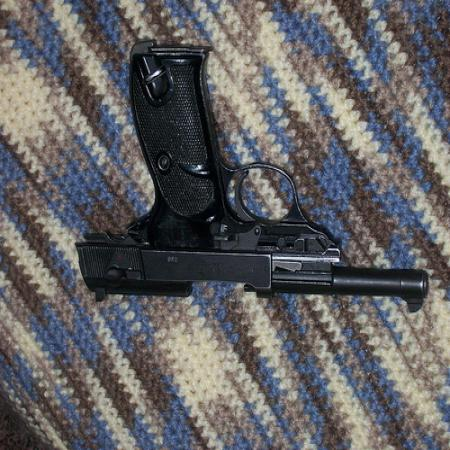Pistol: (74, 41, 430, 316)
